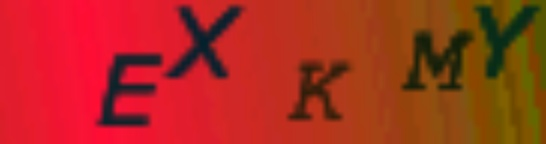E: (93, 49, 168, 129)
K: (281, 58, 354, 126)
M: (400, 26, 472, 92)
X: (164, 1, 248, 85)
Y: (471, 2, 539, 81)
